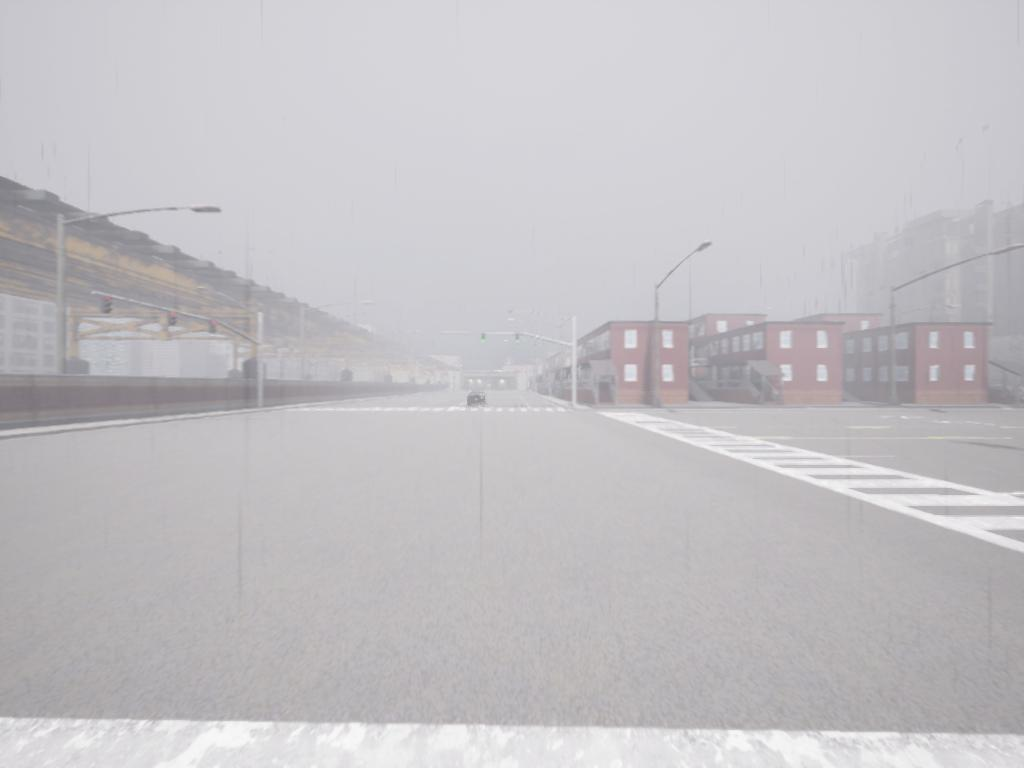traffic_light: (102, 295, 114, 318), (169, 310, 180, 333), (209, 320, 218, 338), (516, 333, 521, 348), (482, 333, 487, 346)
